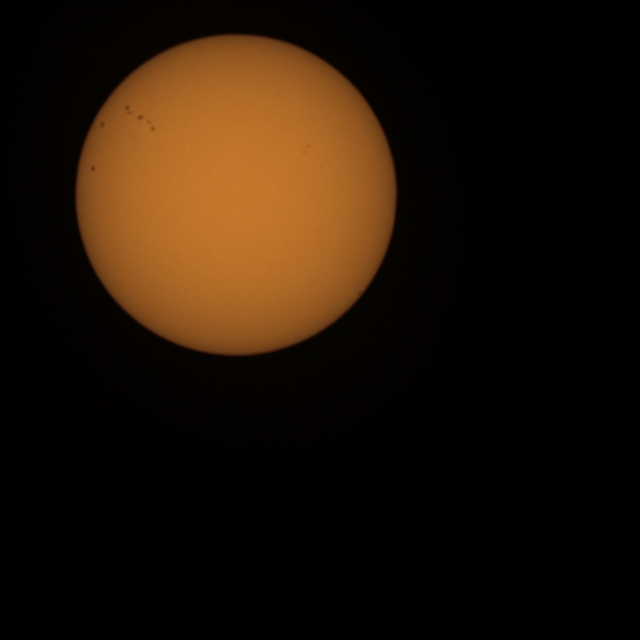sunspot: (124, 105, 156, 133), (90, 119, 107, 132), (123, 104, 134, 116), (301, 143, 312, 155), (98, 119, 107, 130), (90, 164, 96, 173)
